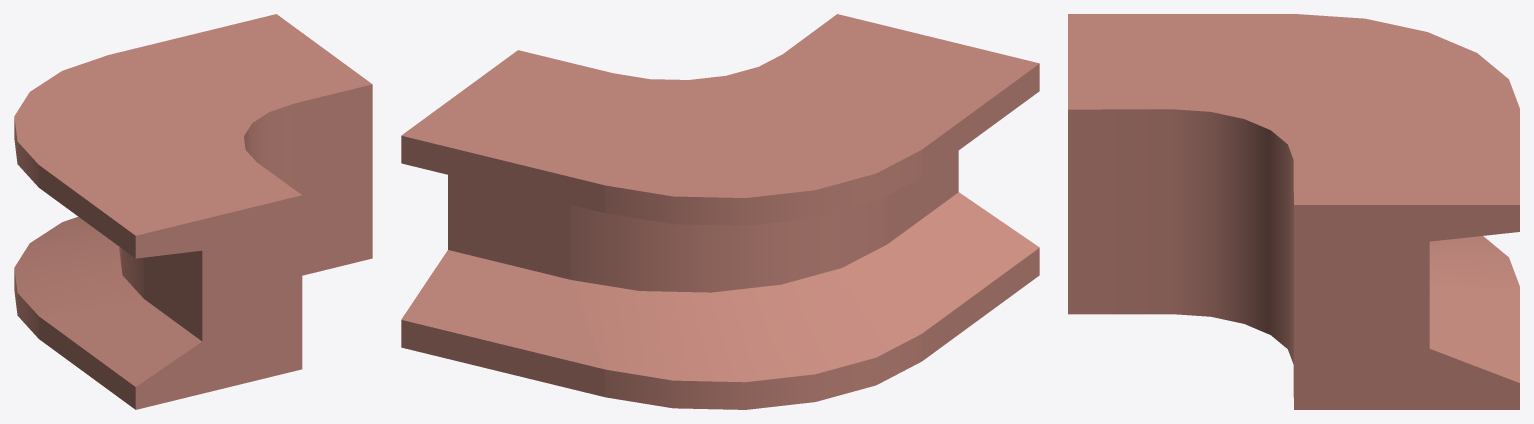
Rendered from TrimBasicWall1x5CornerRounded.fbx.
3 views of the same model, side by side, from view 1: azimuth 30°, elevation 25°; view 2: azimuth 150°, elevation 25°; view 3: azimuth 270°, elevation 25° (orthographic). The views are drawn at different scales.
Parts seen in each view (by area): view 1: TrimBasicWall1x5CornerRounded.001; view 2: TrimBasicWall1x5CornerRounded.001; view 3: TrimBasicWall1x5CornerRounded.001.
Boxes of the visible parts, x1=… form: TrimBasicWall1x5CornerRounded.001: x1=14, y1=14, x2=372, y2=409; TrimBasicWall1x5CornerRounded.001: x1=401, y1=14, x2=1039, y2=409; TrimBasicWall1x5CornerRounded.001: x1=1068, y1=14, x2=1519, y2=409.
Size of the model in its own units: 200 by 100 by 200.
